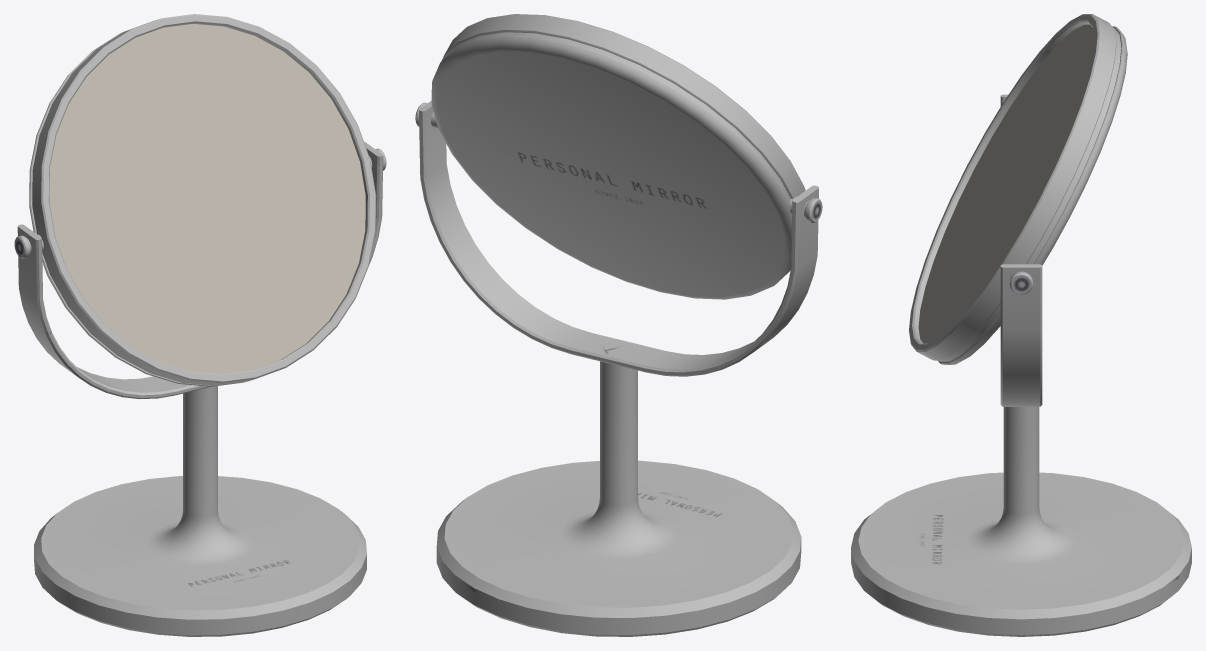
The picture shows the model from 3 angles, left to right: view 1: azimuth 30°, elevation 25°; view 2: azimuth 150°, elevation 25°; view 3: azimuth 270°, elevation 25°; orthographic projection. The views are drawn at different scales.
Parts seen in each view (by area): view 1: Table_mirror; view 2: Table_mirror; view 3: Table_mirror.
Boxes of the visible parts, x1,y1,x2,y2 form: Table_mirror: [14, 14, 386, 636]; Table_mirror: [415, 14, 822, 636]; Table_mirror: [851, 14, 1191, 636].
Size of the model in its own units: 0.1503 by 0.207 by 0.12.
Materials: 1 (1 with a texture image).
